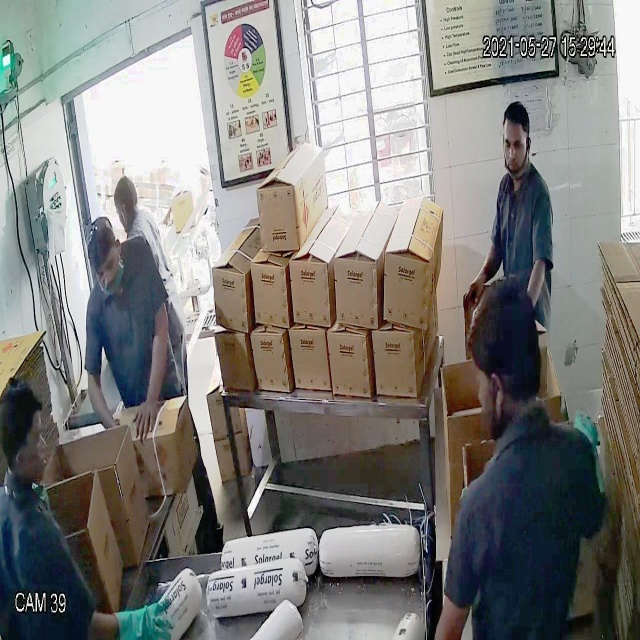Sin_gafas: (498, 126, 536, 160), (86, 250, 125, 283)
